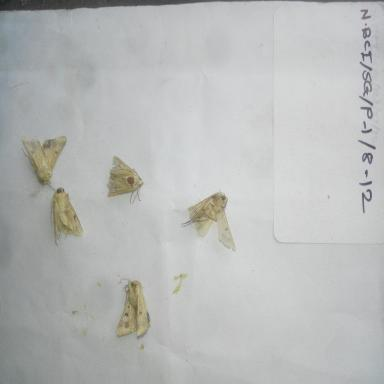abw: (179, 185, 240, 257), (17, 130, 71, 194), (42, 177, 88, 249), (110, 270, 154, 344), (103, 150, 146, 209)
